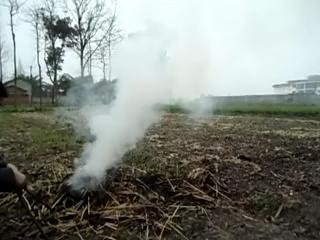yanwu: (71, 16, 214, 190)
